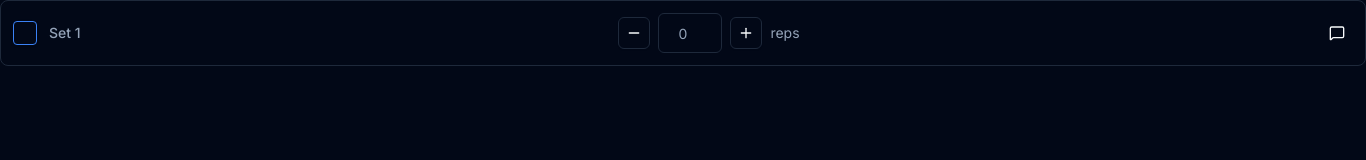
Test: SetInput › shows notes input when note button is clicked
This screenshot has width=1366, height=160.
Expected: the field with placeholder "note for this set" is not shown
Step 1. Click the button named "Add note" → click(1337, 33), box [1321,17,1353,49]
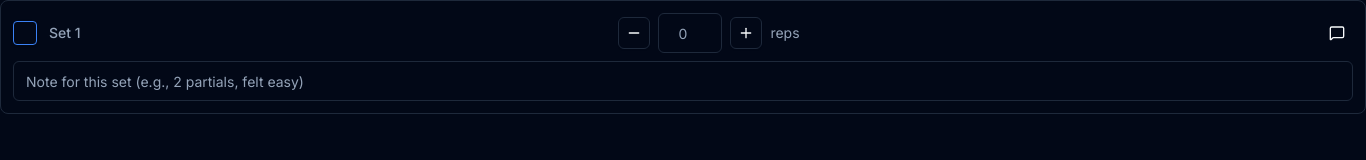
Now the field with placeholder "Note for this set (e.g., 2 partials, felt easy)" is shown, box [13,61,1353,101]
